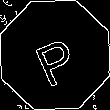P_NW: (28, 24, 82, 86)
